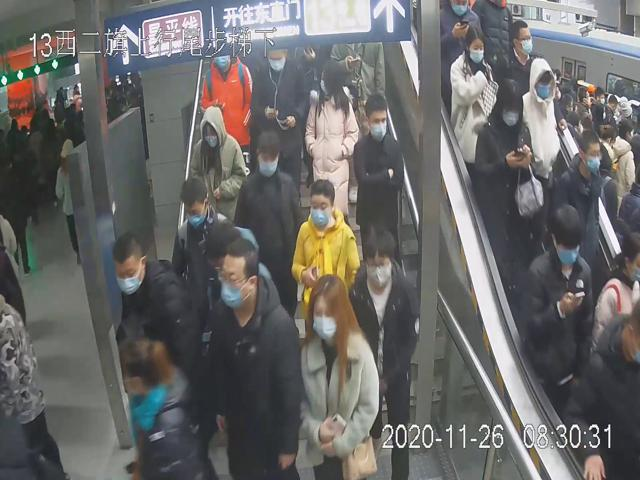person: (210, 236, 296, 480), (345, 223, 416, 480), (298, 273, 379, 480), (519, 200, 598, 403), (472, 77, 541, 284), (110, 232, 201, 383), (235, 126, 303, 327), (288, 176, 362, 313), (351, 92, 404, 278), (301, 58, 358, 225), (169, 173, 231, 312), (448, 25, 503, 176), (249, 47, 307, 176), (187, 103, 246, 226)
